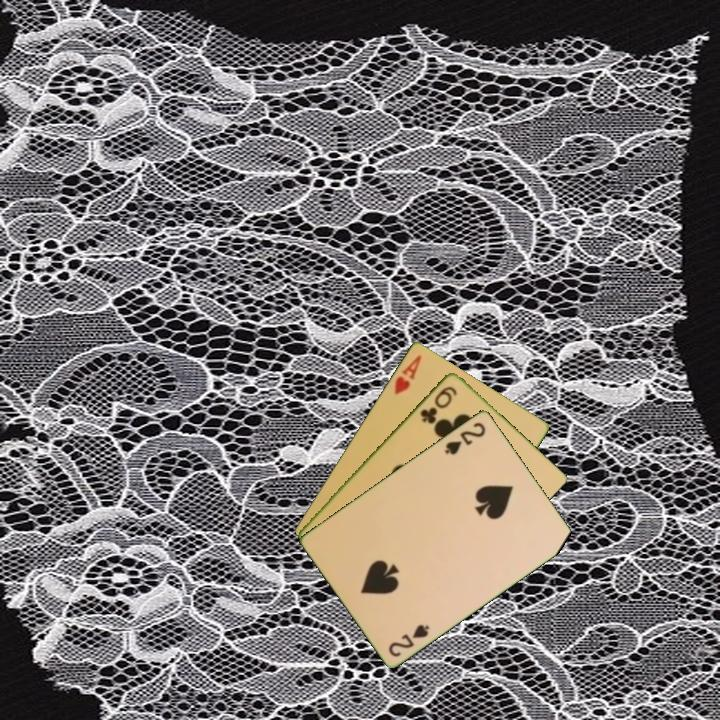2s: (385, 620, 433, 660), (441, 418, 489, 457)
6c: (416, 382, 460, 427)
Ah: (391, 351, 424, 398)
